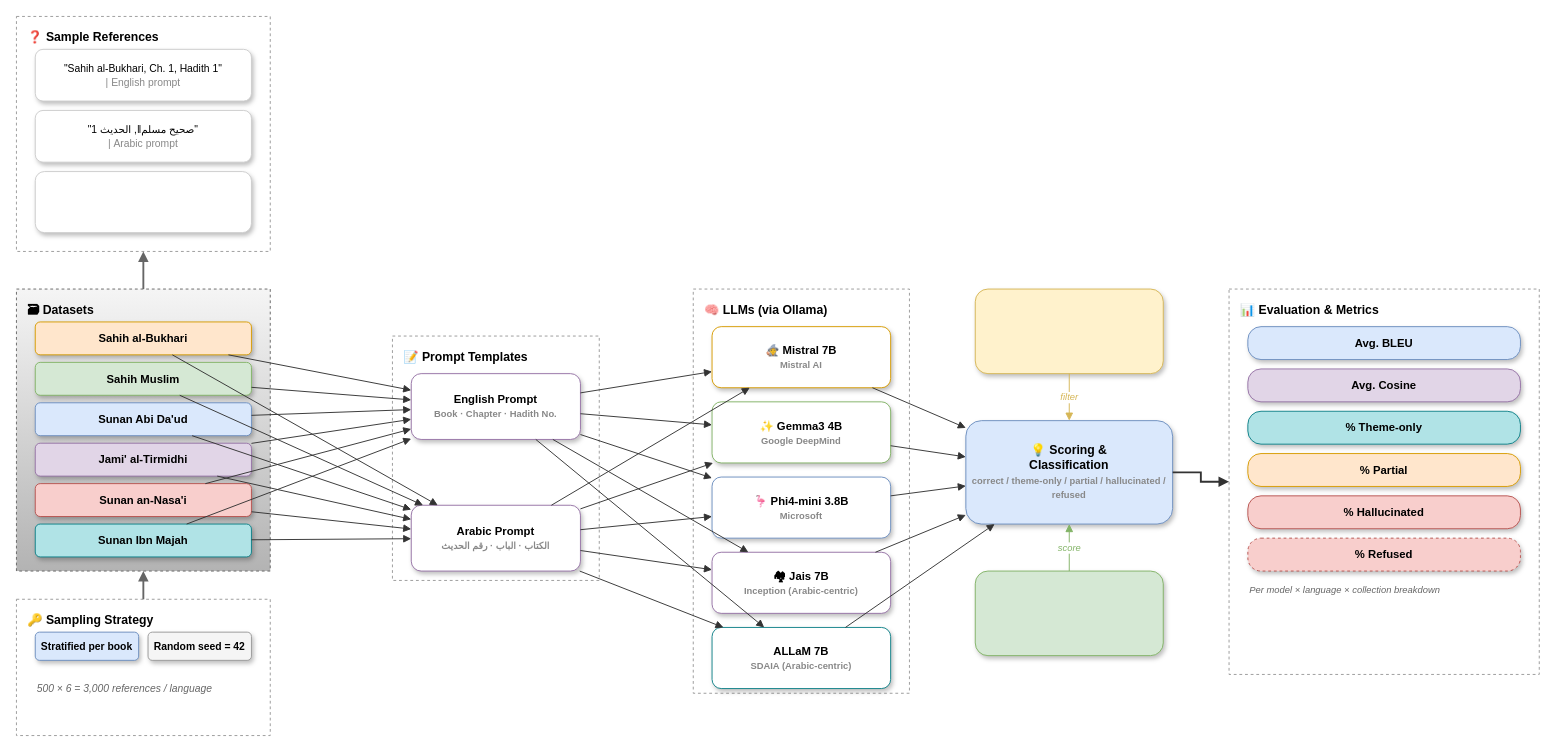
This 1556x752 diagram has some shape labels left out. The shapes that lost their labels are listed below. From the top down, each one's centre as x and y in pixels, then its label:
the point at 144,203: "I don't have access to..." | Refusal example (excluded)
the point at 1070,332: 🚫 Refusal Filter phrase match + len ≤ 150 chars
the point at 1070,614: 📏 Dual Metrics BLEU (lexical) + Cosine (semantic)
